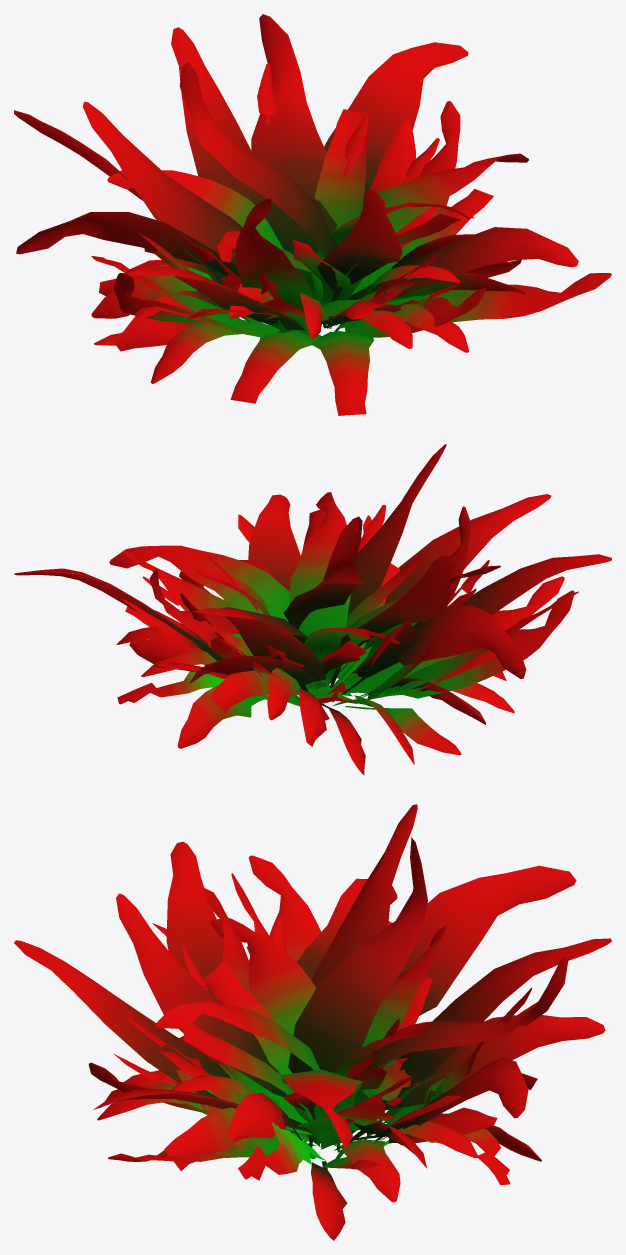
File: Boston Fern_LOD0_Var2_rhDrC.fbx
3 renders of one model, top to bottom at view 1: azimuth 30°, elevation 25°; view 2: azimuth 150°, elevation 25°; view 3: azimuth 270°, elevation 25°, orthographic. The views are drawn at different scales.
Parts seen in each view (by area): view 1: _afff_Var2_LOD0; view 2: _afff_Var2_LOD0; view 3: _afff_Var2_LOD0.
Boxes of the visible parts, bbox=[...] form: _afff_Var2_LOD0: bbox=[14, 14, 611, 415]; _afff_Var2_LOD0: bbox=[14, 444, 611, 775]; _afff_Var2_LOD0: bbox=[14, 804, 611, 1240].
Size of the model in its own units: 14.98 by 7.14 by 14.68.
